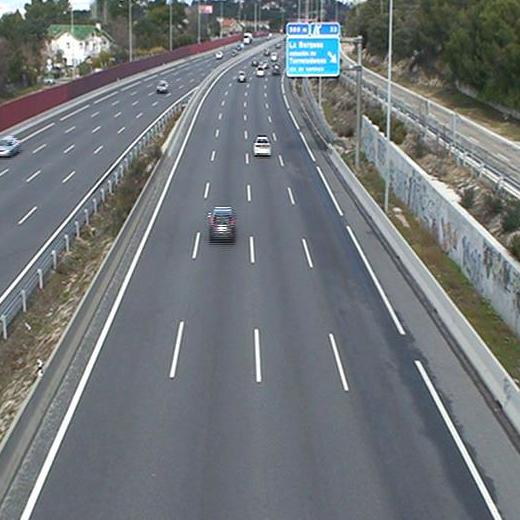car: (208, 209, 236, 240), (253, 137, 271, 158), (237, 70, 247, 83)
